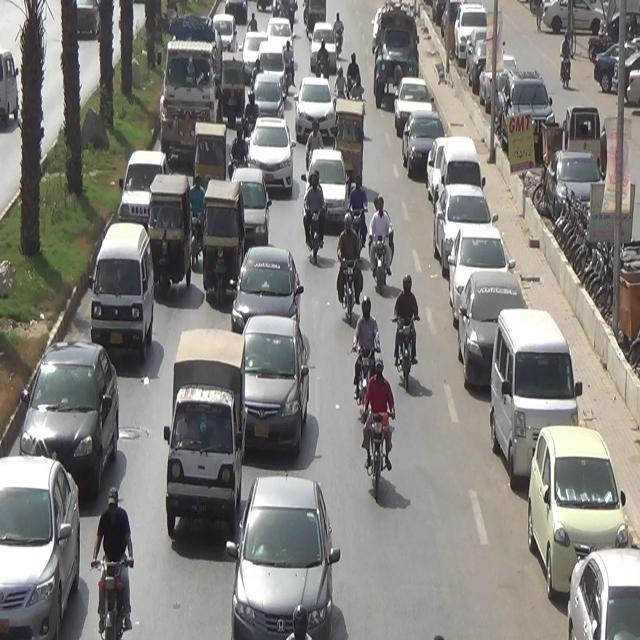car: (228, 470, 339, 631), (0, 430, 81, 637), (19, 328, 111, 475), (234, 326, 320, 460), (87, 232, 151, 376), (236, 252, 304, 351), (300, 154, 356, 222), (118, 149, 171, 217), (247, 123, 301, 187), (298, 76, 343, 132), (251, 71, 285, 122)
motorbike: (87, 477, 145, 640), (360, 354, 404, 506), (350, 302, 385, 423), (329, 218, 365, 329), (392, 265, 420, 392), (365, 191, 395, 298), (298, 168, 330, 260), (346, 50, 365, 106)
truck: (157, 311, 246, 558), (141, 14, 228, 137)
